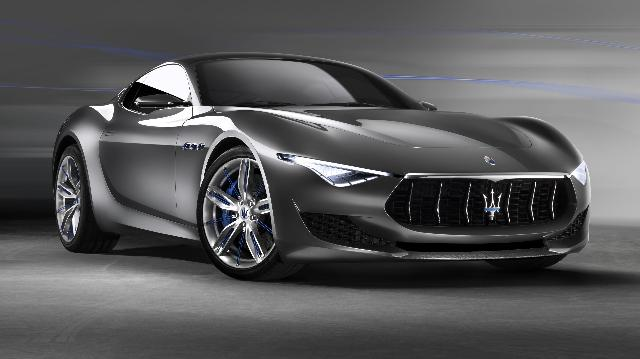maserati: (52, 52, 590, 282)
